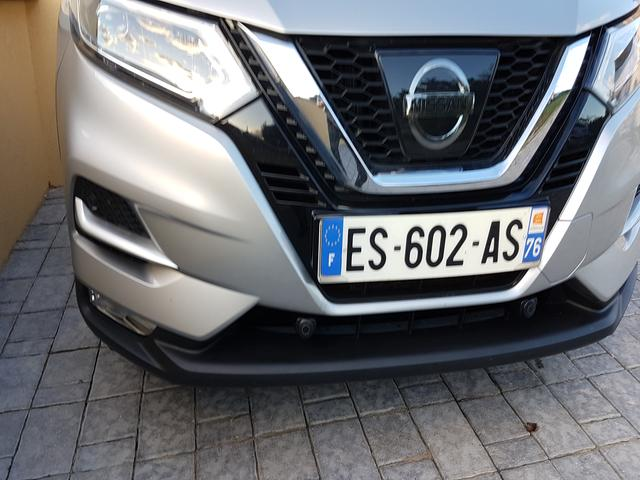Quashquai: (291, 181, 560, 298)
